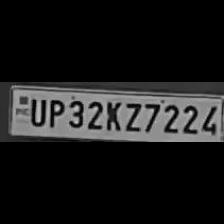2: (84, 98, 104, 130), (159, 102, 179, 134), (178, 102, 198, 134)
3: (64, 97, 84, 128)
4: (198, 102, 218, 134)
7: (140, 100, 160, 132)
K: (103, 98, 121, 132)
P: (44, 96, 64, 128)
U: (26, 96, 46, 126)
Z: (121, 100, 141, 132)
